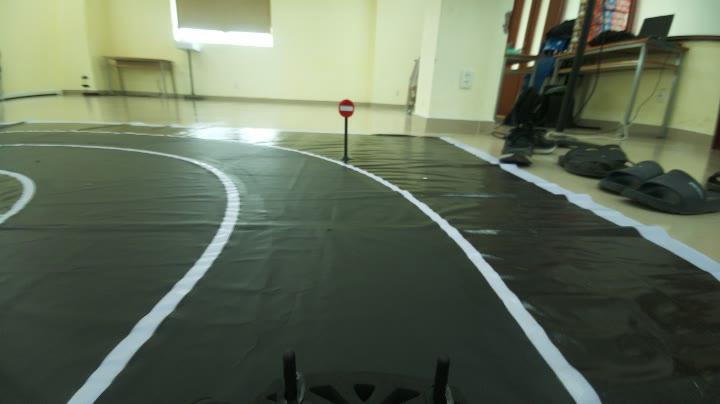no_entry: (332, 92, 358, 120)
